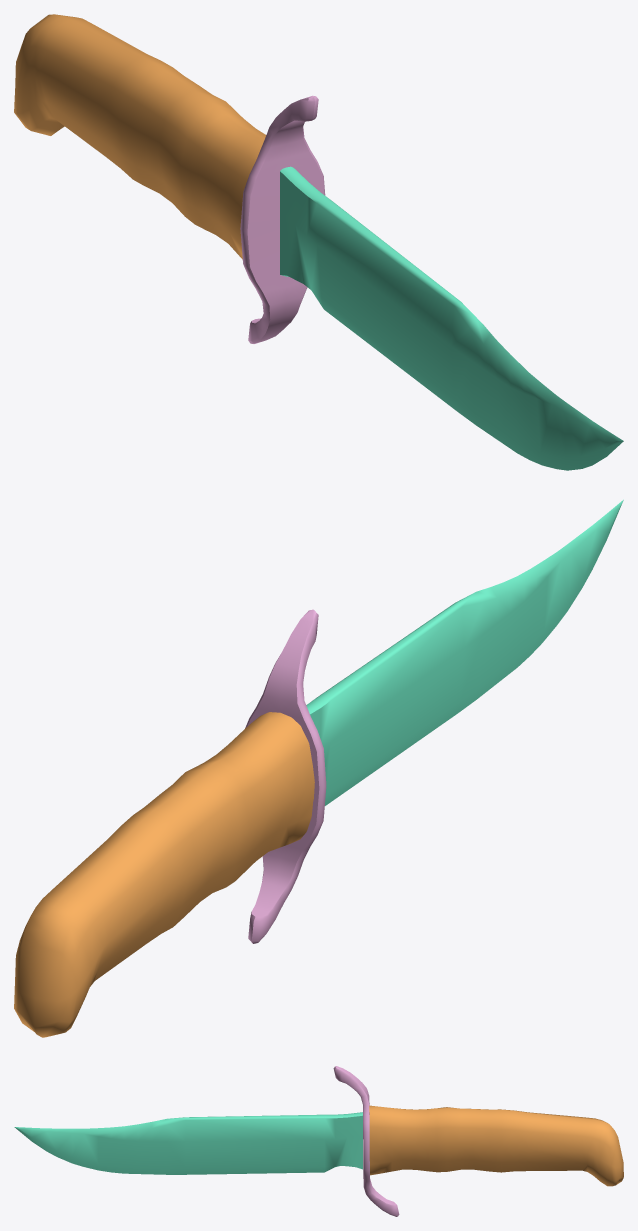
3 views of the same model, one above another, from view 1: azimuth 30°, elevation 25°; view 2: azimuth 150°, elevation 25°; view 3: azimuth 270°, elevation 25° (orthographic). The views are drawn at different scales.
Parts seen in each view (by area): view 1: Hunt_knife_Hunt_knife_0.002, Hunt_knife_Hunt_knife_0.008, split_parent_0; view 2: Hunt_knife_Hunt_knife_0.008, Hunt_knife_Hunt_knife_0.002, split_parent_0; view 3: Hunt_knife_Hunt_knife_0.002, Hunt_knife_Hunt_knife_0.008, split_parent_0.
Part boxes in pixels (left/top/right/bottom): Hunt_knife_Hunt_knife_0.002: left=280, top=166, right=623, bottom=470; Hunt_knife_Hunt_knife_0.008: left=14, top=14, right=266, bottom=259; split_parent_0: left=240, top=95, right=325, bottom=343; Hunt_knife_Hunt_knife_0.008: left=14, top=712, right=314, bottom=1037; Hunt_knife_Hunt_knife_0.002: left=306, top=499, right=623, bottom=805; split_parent_0: left=245, top=609, right=326, bottom=943; Hunt_knife_Hunt_knife_0.002: left=14, top=1112, right=362, bottom=1174; Hunt_knife_Hunt_knife_0.008: left=369, top=1105, right=623, bottom=1186; split_parent_0: left=333, top=1066, right=399, bottom=1216.
Size of the model in its own units: 0.0805 by 0.2728 by 1.
